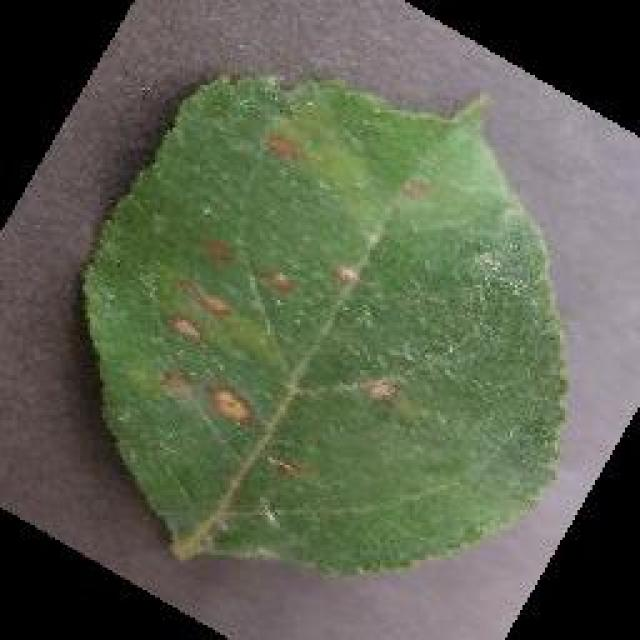apple scab disease: (75, 68, 570, 578)
